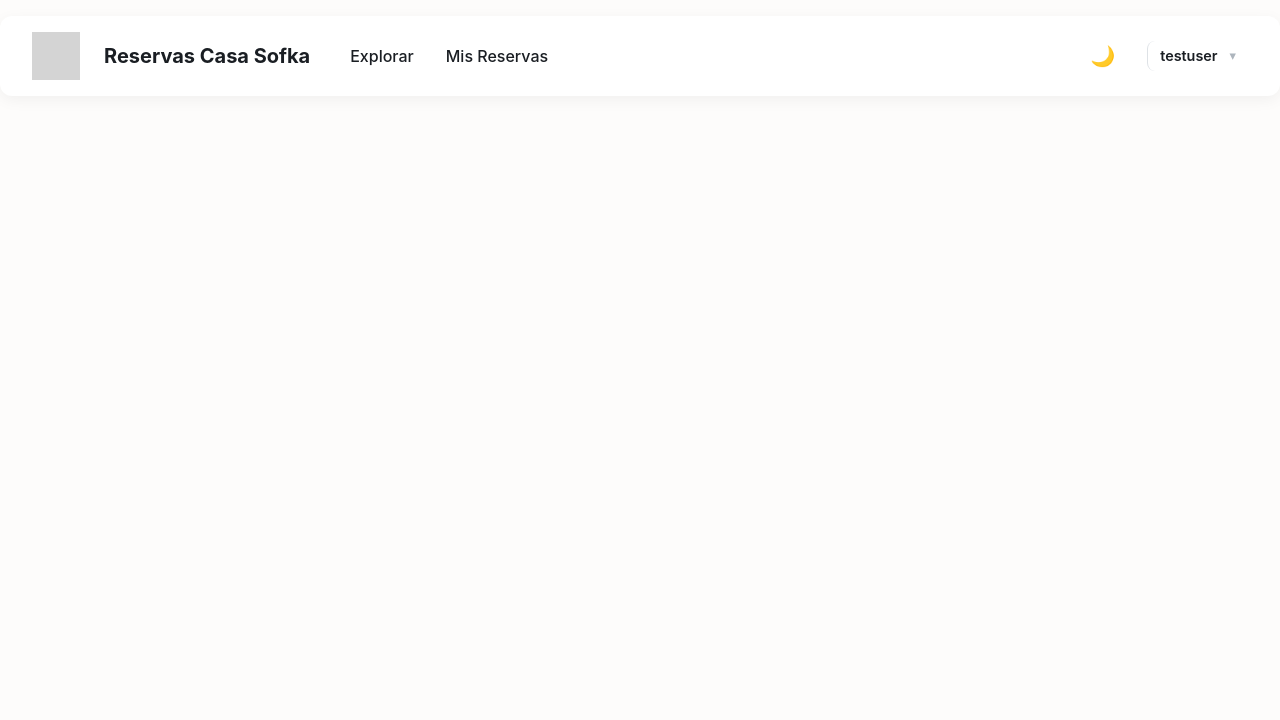
Header › debe cerrar menú de usuario al hacer clic fuera
// Open user menu
Click the text "testuser" at (1189, 56), box [1160,45,1218,67]
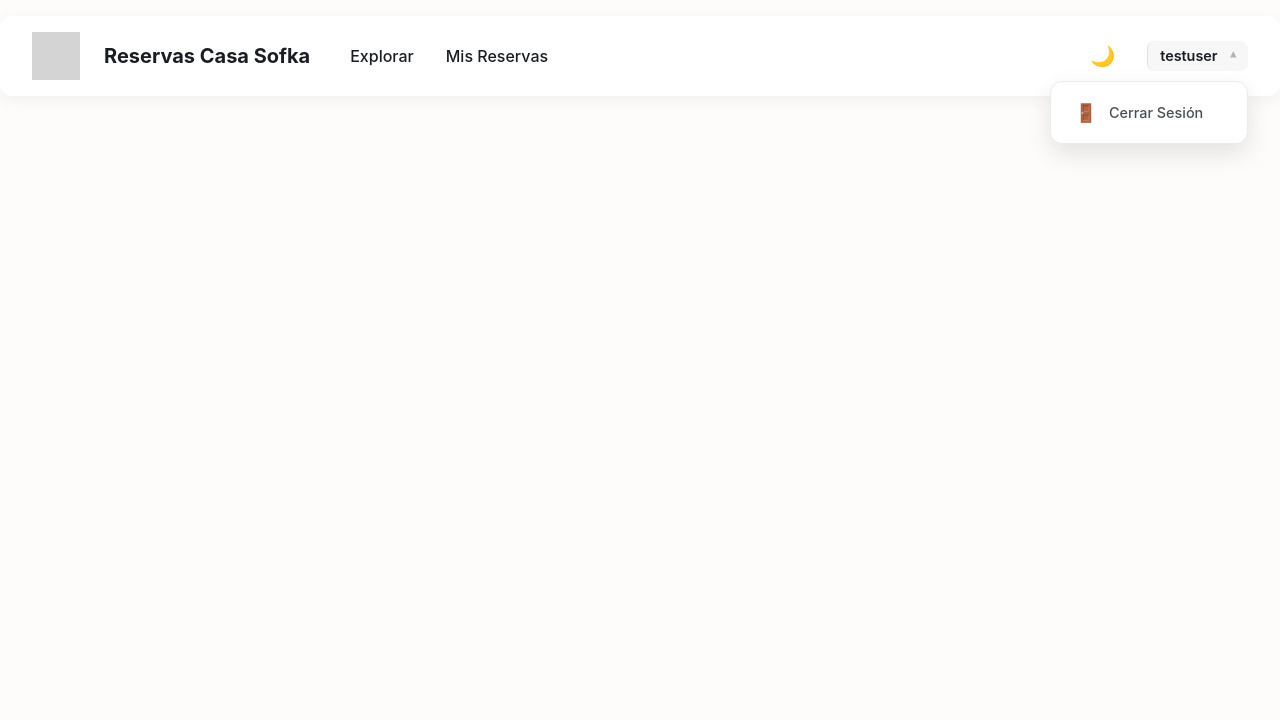
Check: the button "🚪 Cerrar Sesión" is shown, box [1059,90,1239,135]
// Click outside
Press the mouse on the element that starts with "Reservas Casa Sofka" at (640, 360), box [0,0,1279,719]
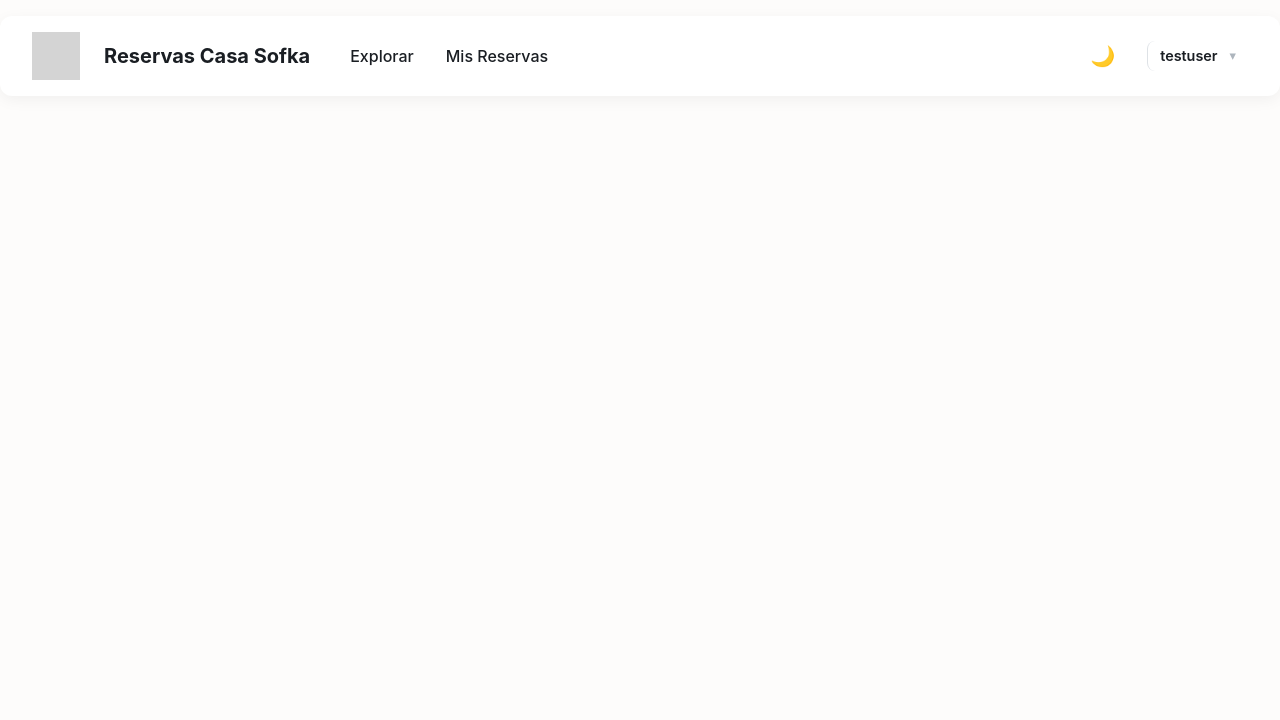
Check: the button "Cerrar Sesión" is gone
